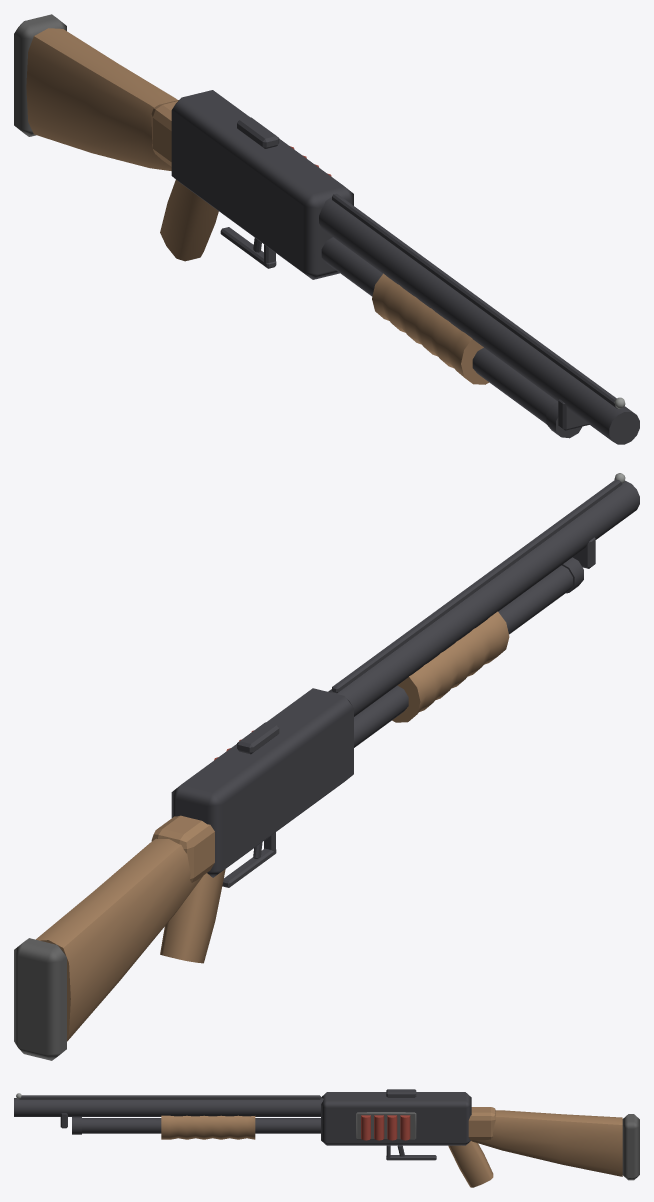
File: shotgun.glb
3 views of the same model, one above another, from view 1: azimuth 30°, elevation 25°; view 2: azimuth 150°, elevation 25°; view 3: azimuth 270°, elevation 25° (orthographic). The views are drawn at different scales.
Parts seen in each view (by area): view 1: shotgun; view 2: shotgun; view 3: shotgun.
Part boxes in pixels (bbox=[...]): shotgun: bbox=[14, 14, 639, 444]; shotgun: bbox=[14, 473, 639, 1060]; shotgun: bbox=[14, 1089, 639, 1187].
Bounding box in the file's own units: 0.079 × 0.2078 × 1.24.
